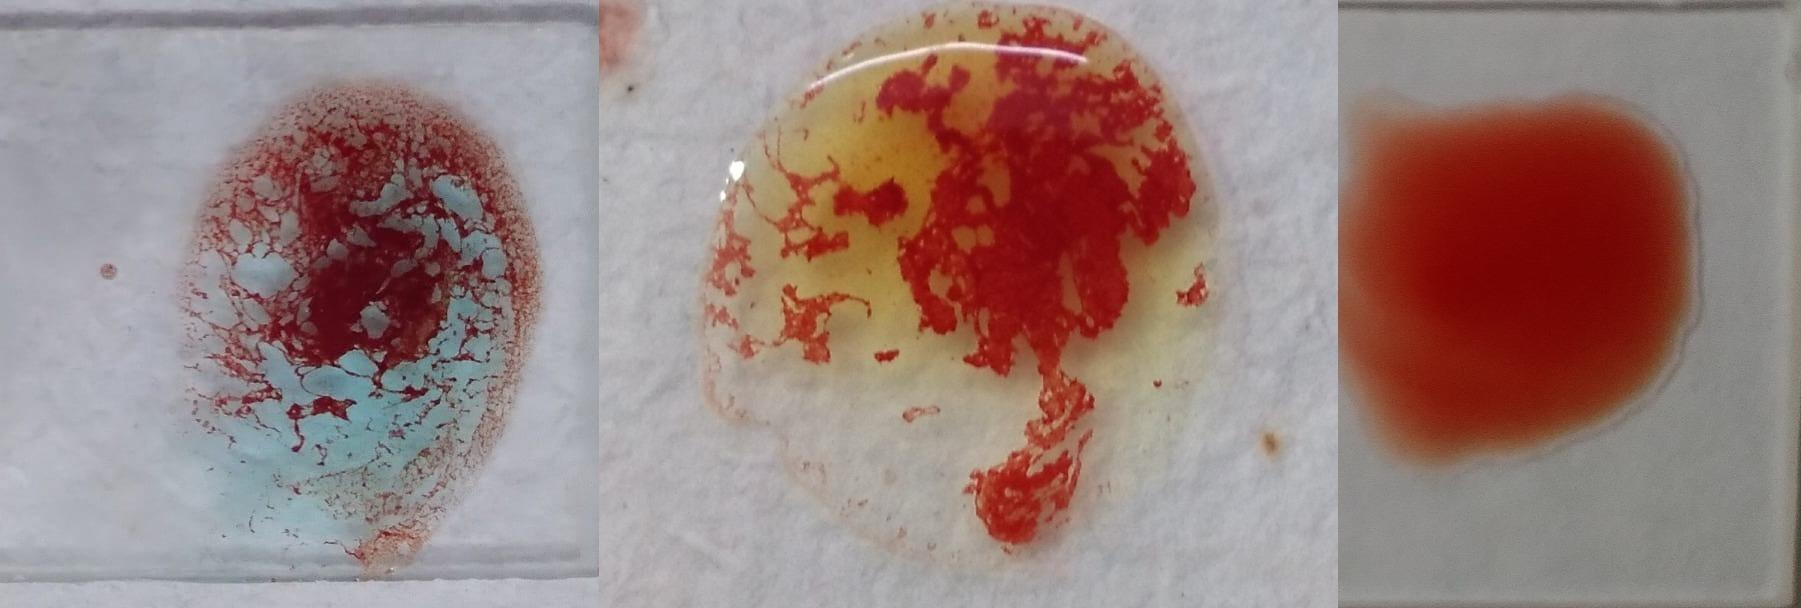A: (162, 82, 540, 562)
B: (706, 7, 1228, 559)
